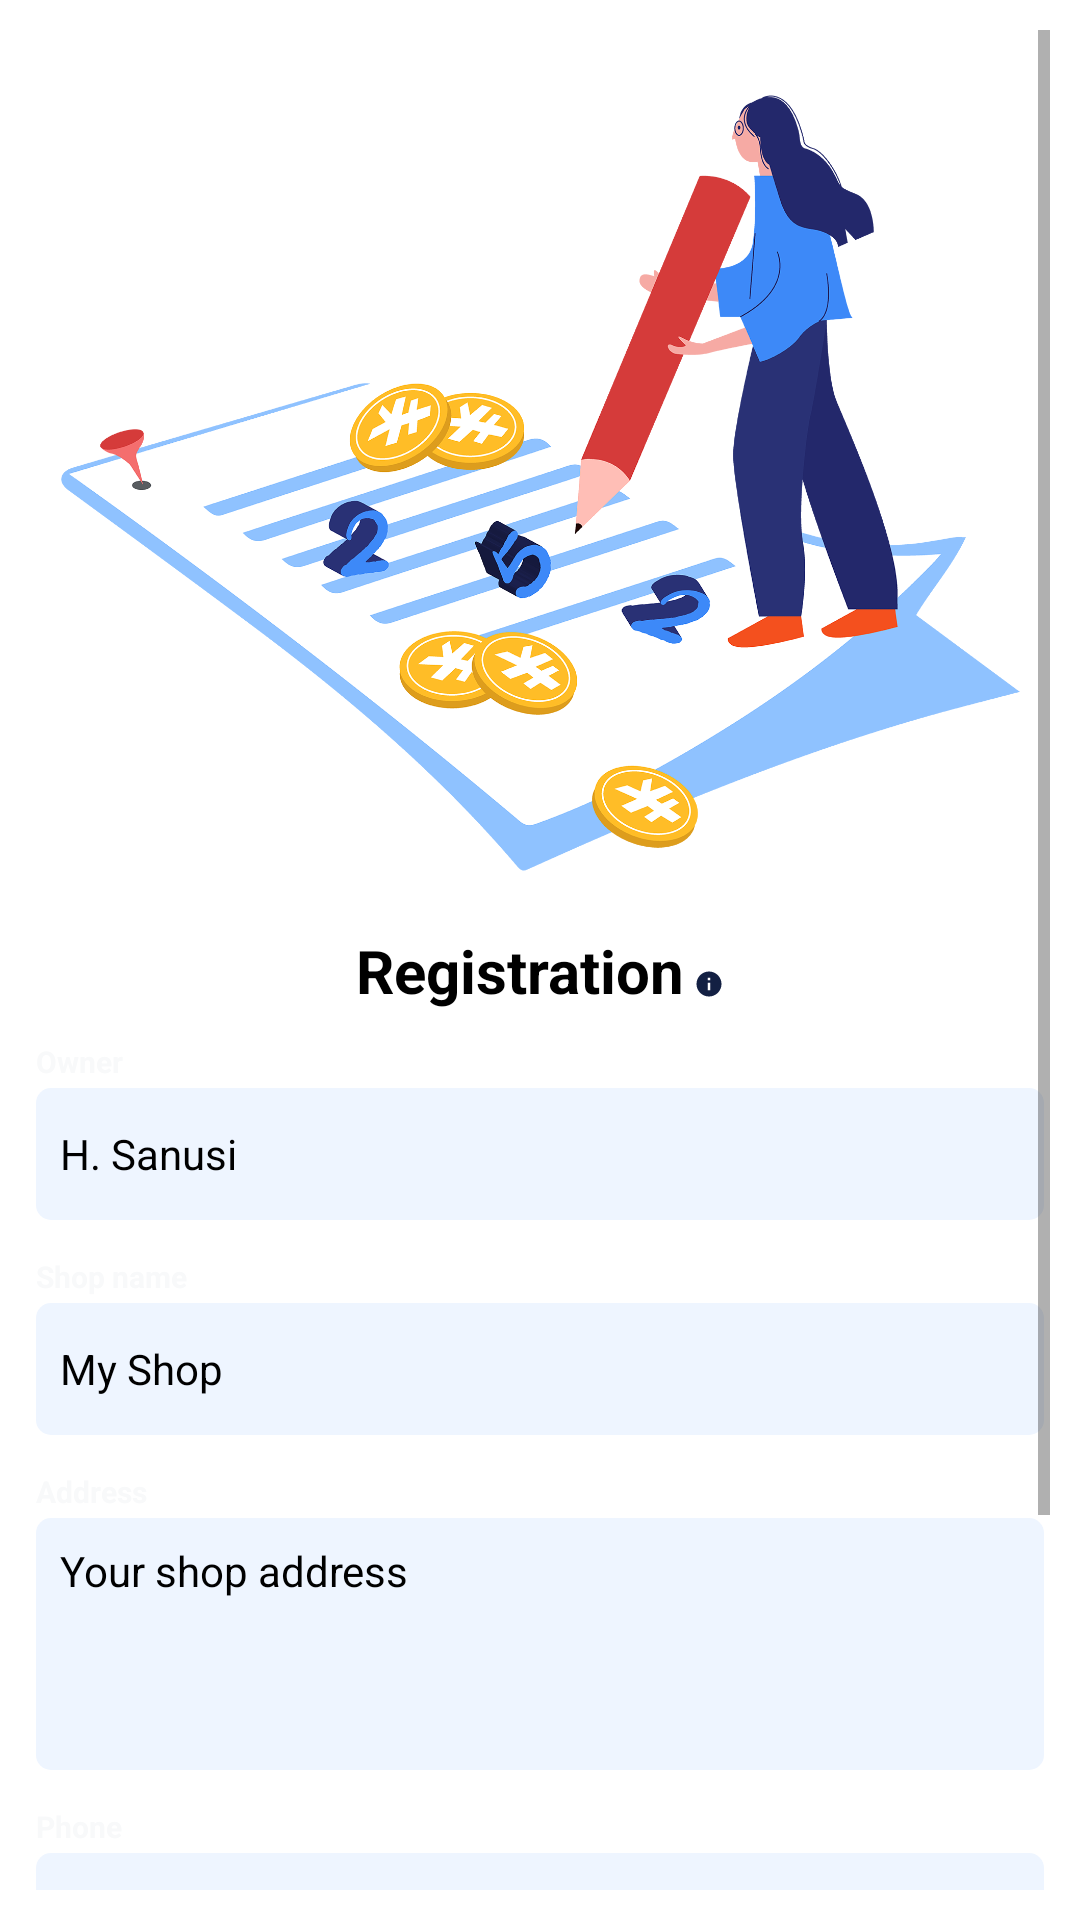

Screen size 1080px x 1920px. Icon name, then its box in pixels as (x1, y1, x2, y2):
info: (696, 971, 722, 997)
